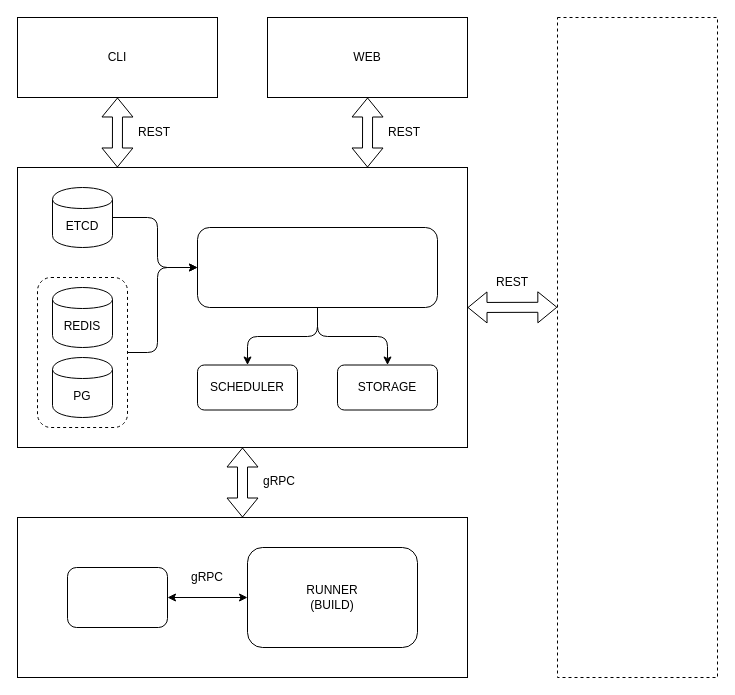
Image size: 735x695. Some labels were removed from this diagram. Each missing label, with the centre of its shape:
CONTROLLER: (317,267)
PIPELINE: (637,347)
WORKER (AGENT): (117,597)
